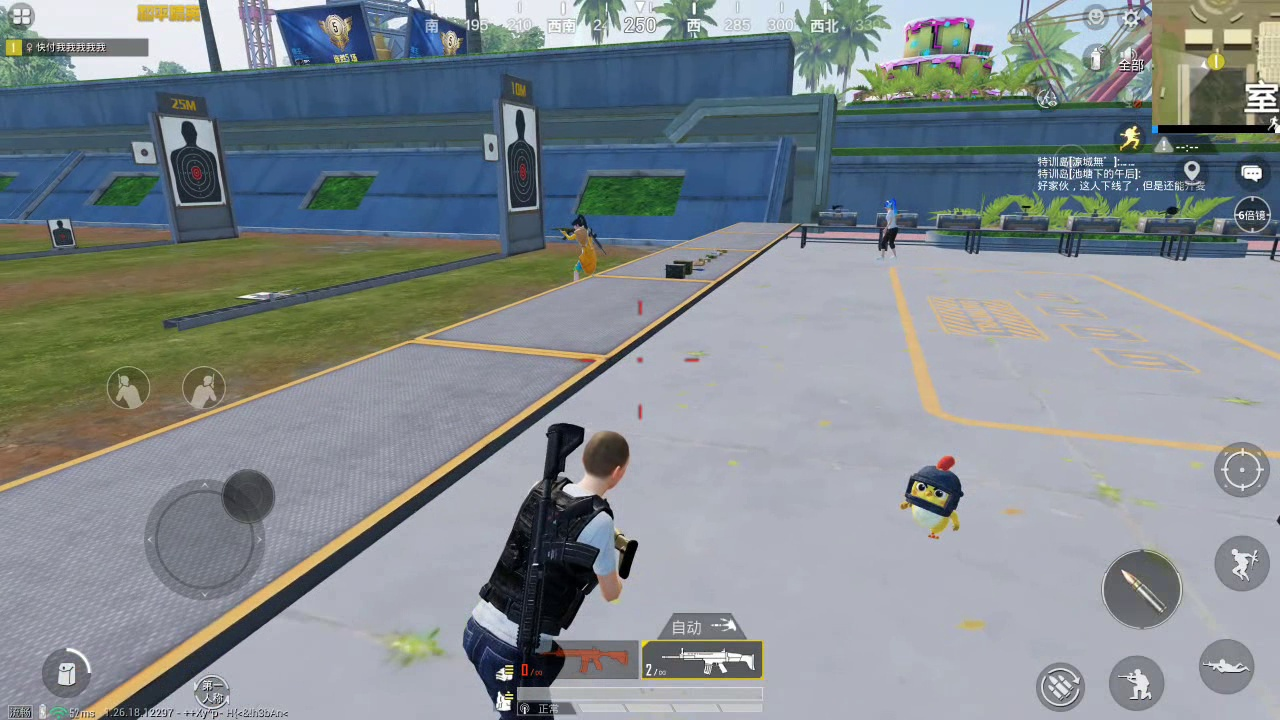enemy: (564, 215, 598, 276), (874, 195, 900, 258)
